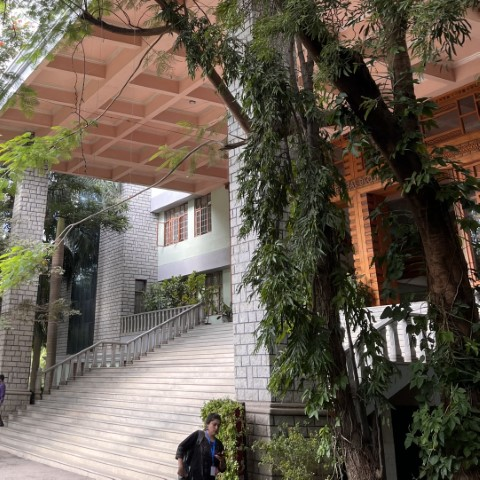Central Block: (2, 24, 265, 480)
